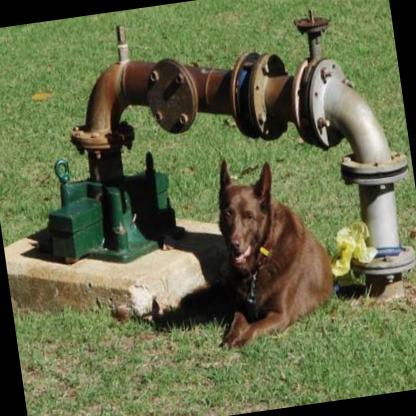kelpie: (195, 140, 344, 352)
